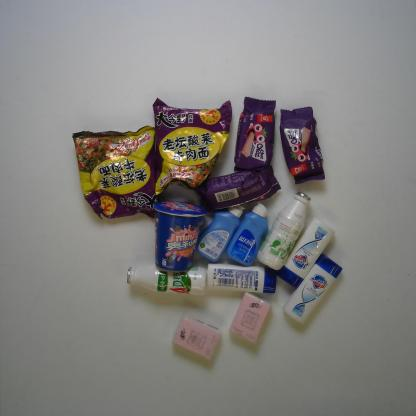Dessert: (193, 164, 281, 212), (152, 201, 208, 271), (280, 106, 326, 185), (233, 95, 276, 173)
Instant Noodles: (152, 97, 233, 202), (72, 125, 159, 220)
Milk: (256, 192, 311, 270), (127, 265, 208, 296)
Personal Hygiene: (282, 254, 343, 324), (276, 217, 336, 288), (195, 205, 246, 262), (226, 202, 269, 267), (206, 263, 276, 294)
Tissue: (172, 314, 222, 361), (228, 292, 272, 344)
